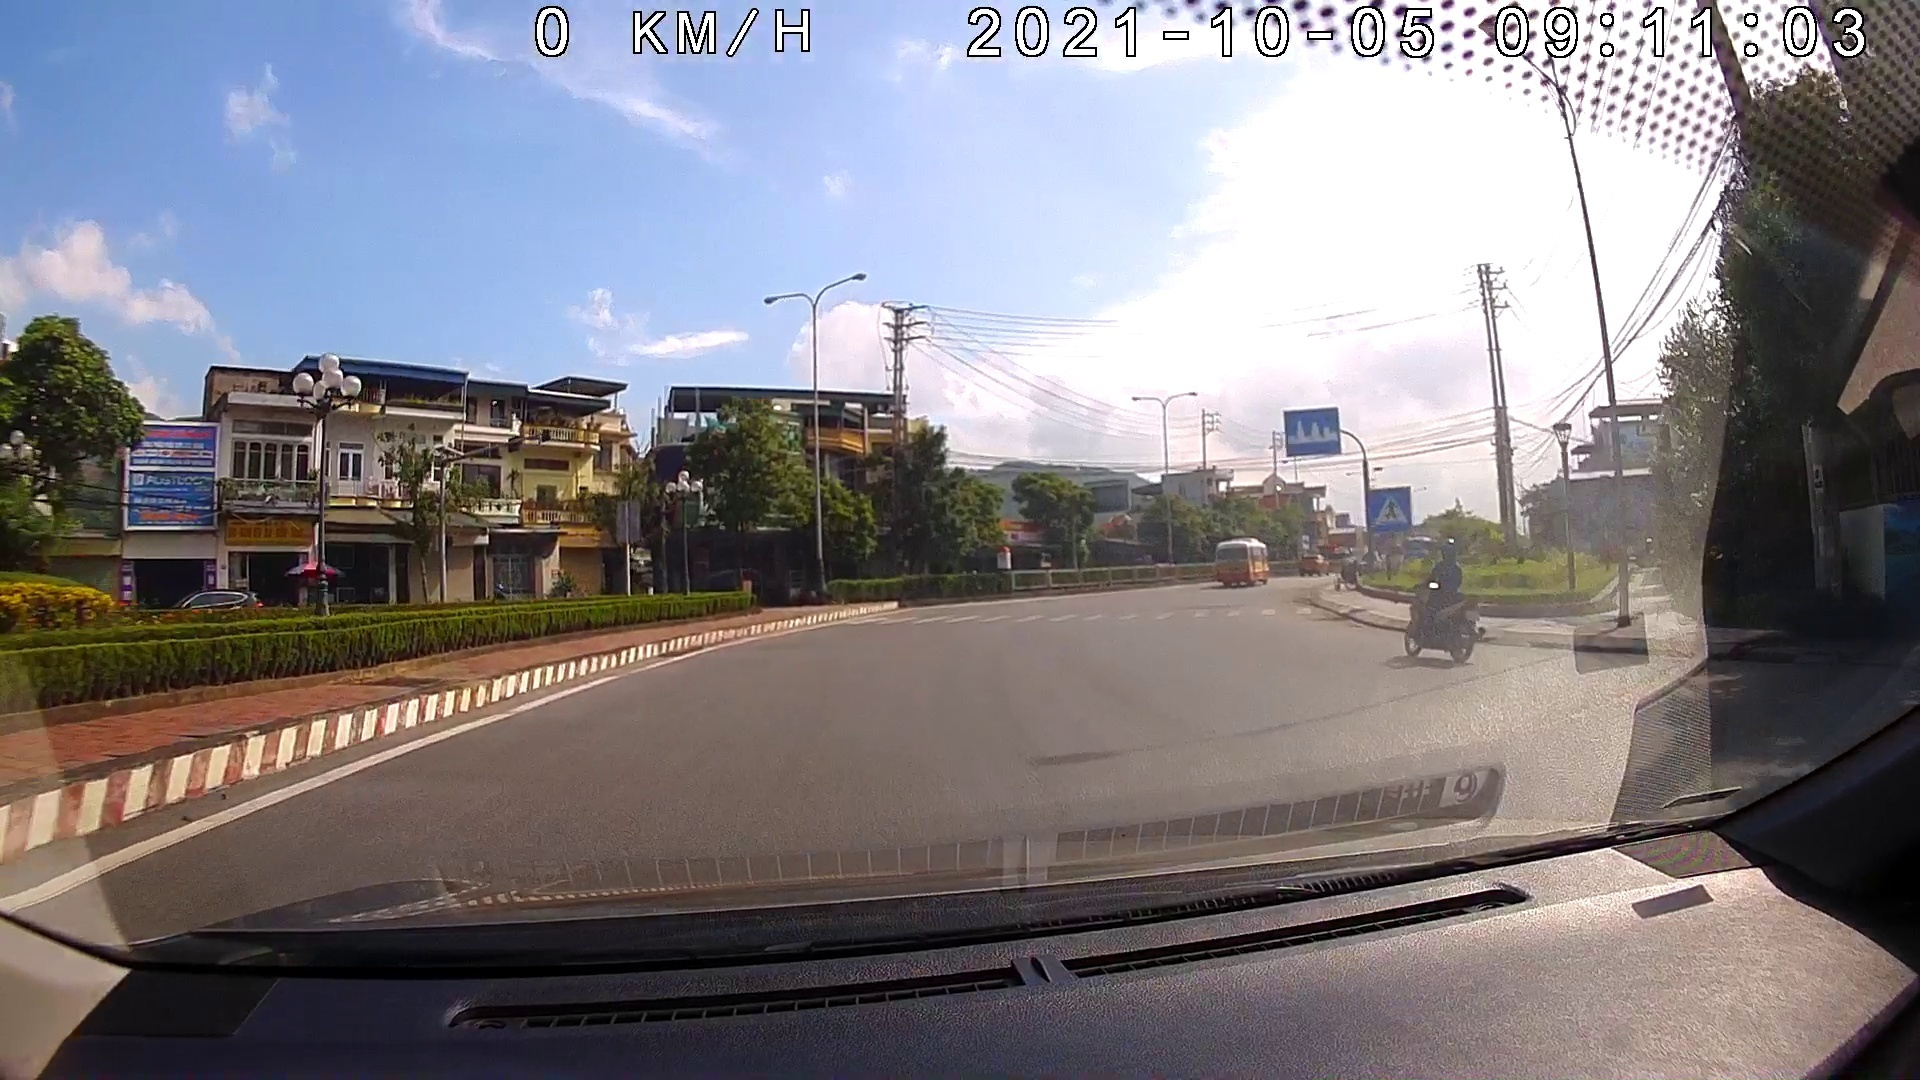Bien khac: (1284, 406, 1340, 455)
Nguoi di bo: (1366, 483, 1414, 533)
